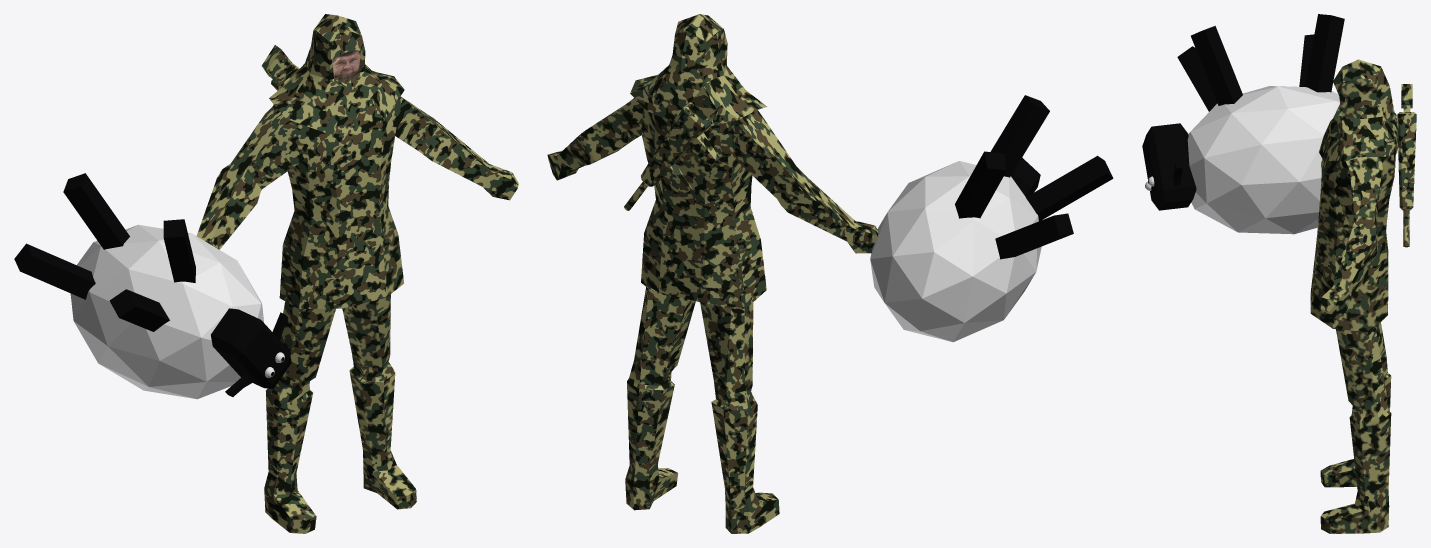
File: kadirov2.fbx
3 views of the same model, side by side, from view 1: azimuth 30°, elevation 25°; view 2: azimuth 150°, elevation 25°; view 3: azimuth 270°, elevation 25° (orthographic). The views are drawn at different scales.
Visible parts, largest first — view 1: Cube.051; view 2: Cube.051; view 3: Cube.051.
Part boxes in pixels (x1=…): Cube.051: x1=14, y1=14, x2=518, y2=533; Cube.051: x1=547, y1=14, x2=1113, y2=533; Cube.051: x1=1142, y1=14, x2=1416, y2=533.
Bounding box in the file's own units: 381 × 351 × 195.
